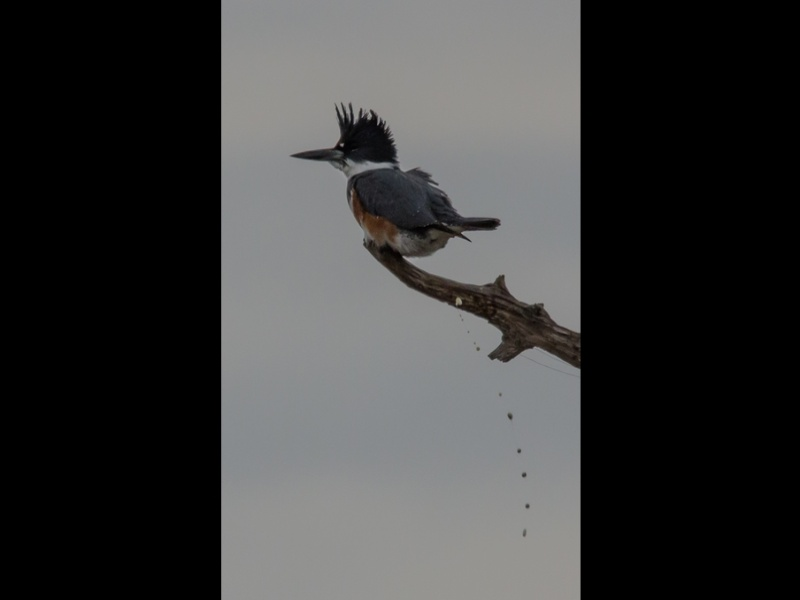kingfisher: (286, 103, 506, 257)
